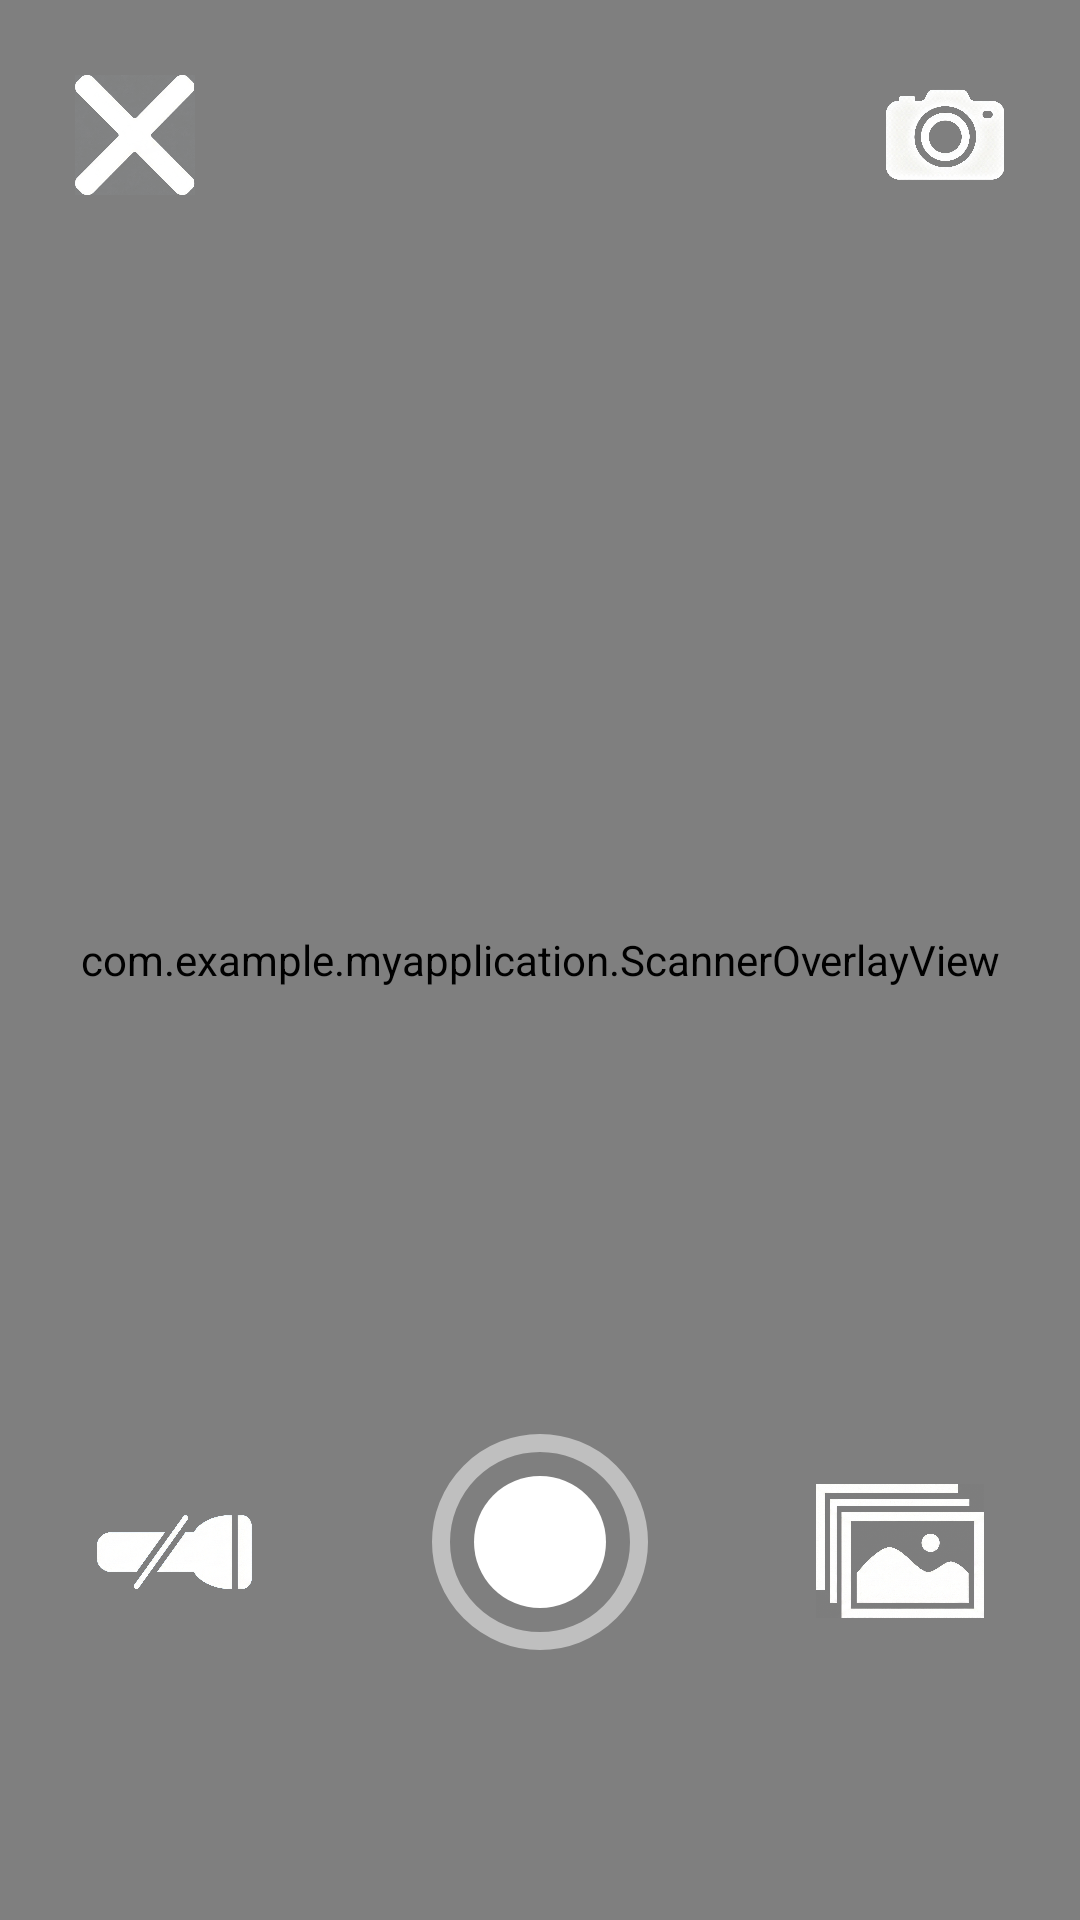

Locate icon controls on the screen. Image size 1080x1920, boxes as box(x1, y1, x2, y2).
close: box(75, 75, 194, 195)
flash off: box(97, 1515, 252, 1589)
